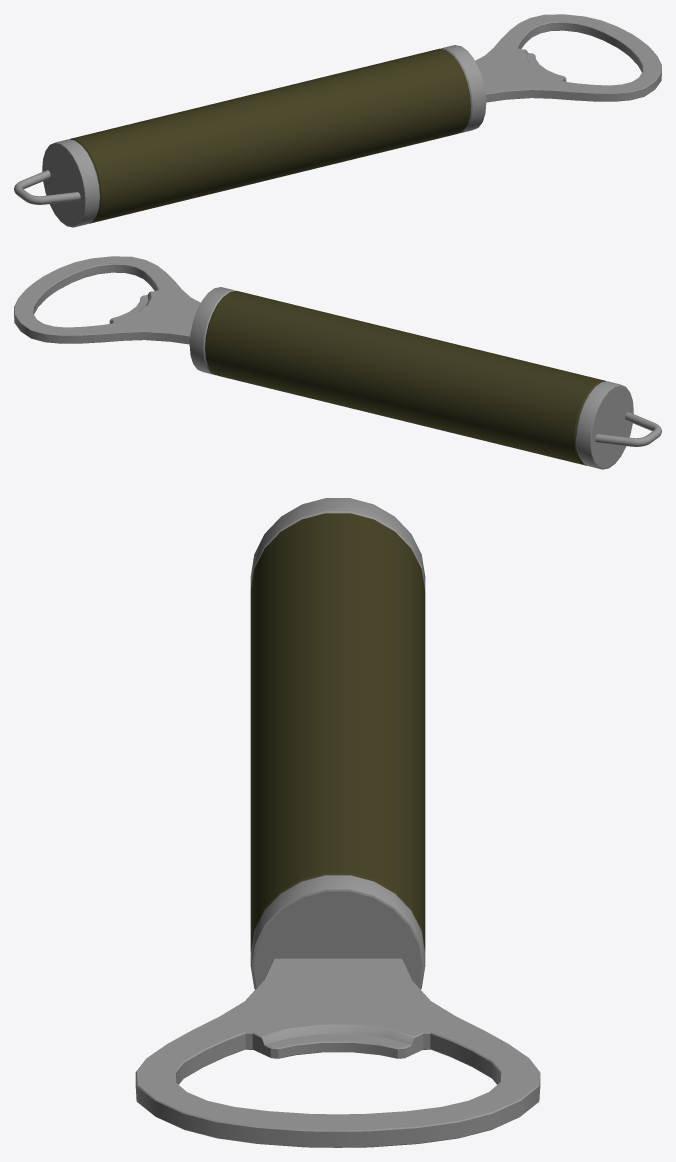
The model's file is beer_otkrivashka_HI.FBX.
3 views of the same model, one above another, from view 1: azimuth 30°, elevation 25°; view 2: azimuth 150°, elevation 25°; view 3: azimuth 270°, elevation 25° (orthographic). The views are drawn at different scales.
Parts seen in each view (by area): view 1: beer_otkrivashka_HI; view 2: beer_otkrivashka_HI; view 3: beer_otkrivashka_HI.
Boxes of the visible parts, x1=… form: beer_otkrivashka_HI: x1=14, y1=14, x2=661, y2=227; beer_otkrivashka_HI: x1=14, y1=256, x2=661, y2=469; beer_otkrivashka_HI: x1=135, y1=498, x2=540, y2=1147.
Bounding box in the file's own units: 163 × 19.66 × 46.01.
